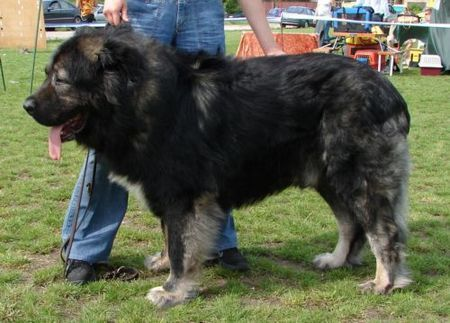cau_ovcharka: (22, 25, 415, 310)
person: (58, 0, 287, 286)
